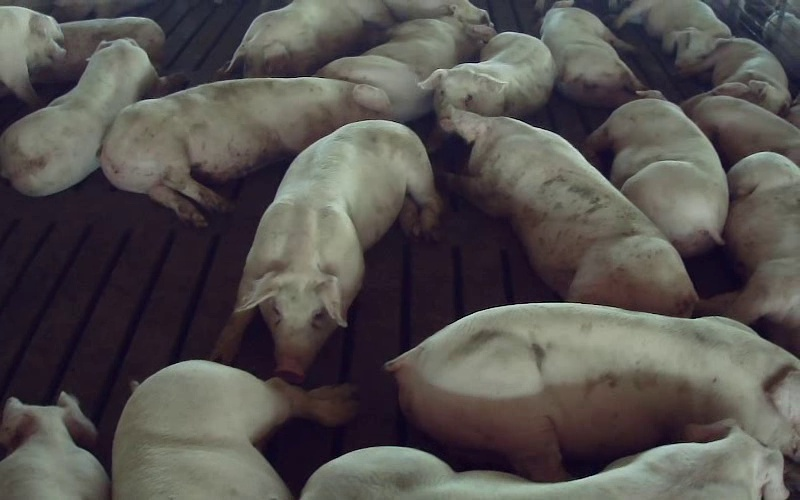pig: (386, 303, 799, 480), (213, 121, 439, 383), (445, 110, 697, 315), (101, 77, 389, 226), (301, 421, 787, 499), (112, 360, 356, 499), (0, 39, 158, 195), (586, 91, 728, 256), (699, 152, 799, 355), (317, 16, 494, 121), (226, 0, 394, 76), (0, 392, 109, 499), (420, 32, 555, 116), (540, 0, 643, 107), (681, 82, 799, 167), (680, 38, 790, 114), (615, 0, 730, 68)
